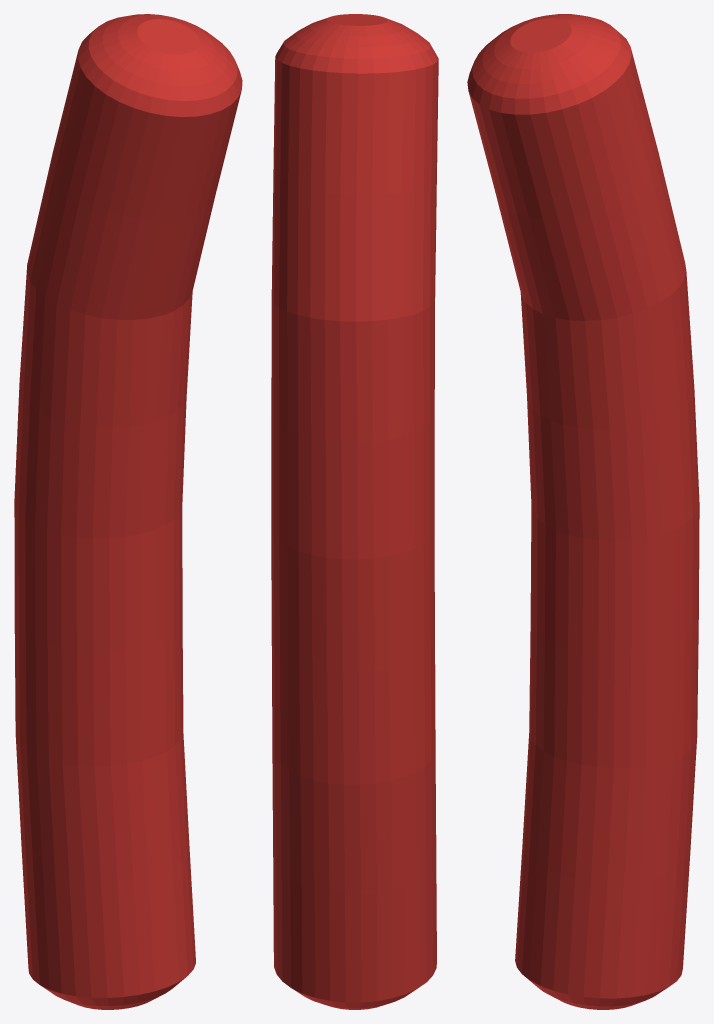
Rendered from hotdog01.fbx.
3 views of the same model, side by side, from view 1: azimuth 30°, elevation 25°; view 2: azimuth 150°, elevation 25°; view 3: azimuth 270°, elevation 25° (orthographic). The views are drawn at different scales.
Visible parts, largest first — view 1: hotdog.001; view 2: hotdog.001; view 3: hotdog.001.
Boxes of the visible parts, x1,y1,x2,y2 form: hotdog.001: (14, 14, 242, 1009); hotdog.001: (271, 14, 438, 1009); hotdog.001: (467, 14, 699, 1009).
Bounding box in the file's own units: 239 × 1290 × 276.
